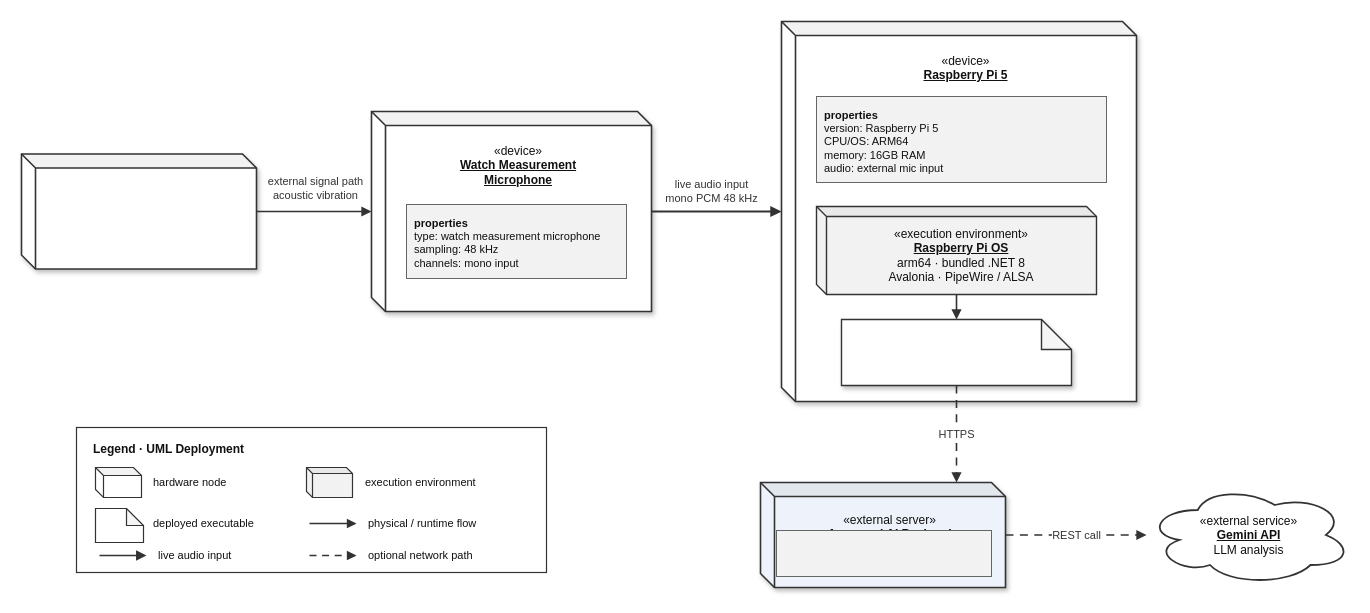
Some shapes in this 1370 by 613 pixel diagram are drawn without their labels. Here are the shapes that lost their labels. From the top down, the centre of each, then its label:
At (x=139, y=212): "«external signal source» Mechanical Watch acoustic tick/tock".
At (x=957, y=353): "«artifact» TimeGrapher.App".
At (x=884, y=553): "properties access: HTTPS · Basic Auth role: relays log, holds API credential".
